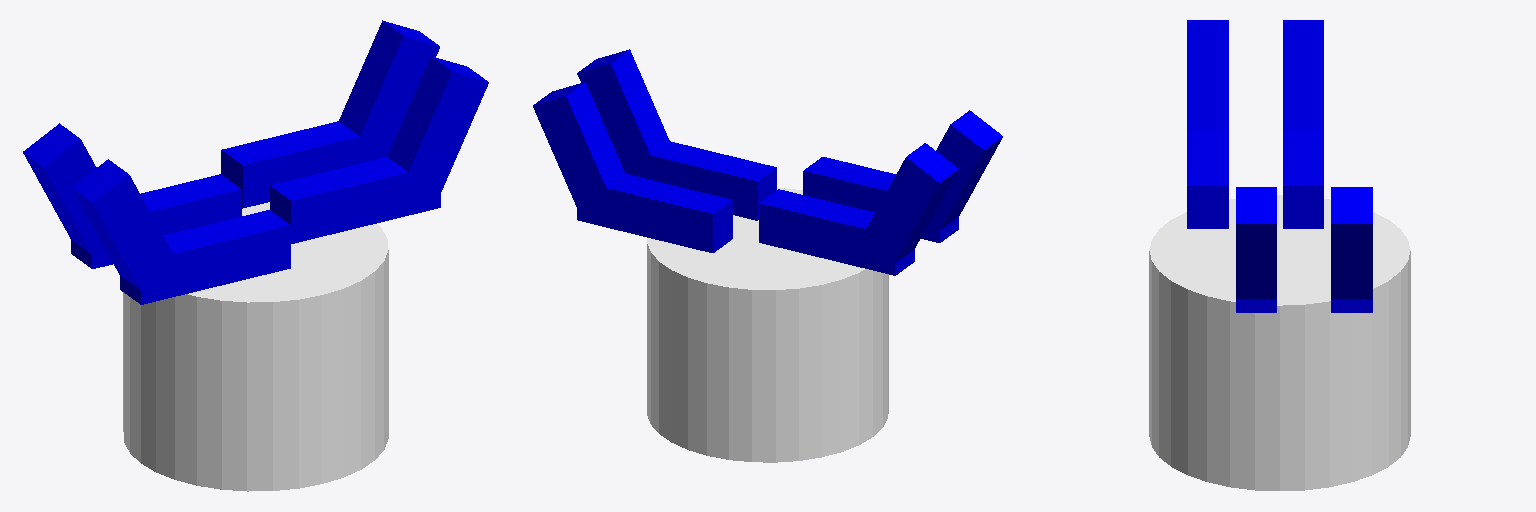
robot.urdf — modelt:
<?xml version="1.0"?>
<robot name="modelt">
  <link name="base_link">
    <visual>
      <geometry>
        <cylinder length="0.0785" radius="0.05"/>
      </geometry>
      <material name="white">
        <color rgba="1 1 1 0.8"/>
      </material>
    </visual>
  </link>

  <link name="finger1_prox">
    <visual>
      <geometry>
        <box size="0.065 0.016 0.018"/>
      </geometry>
      <material name="blue">
        <color rgba="0 0 1 0.8"/>
      </material>
      <origin rpy="0 0 0" xyz="0.0235 0 0"/>
    </visual>
  </link>

  <joint name="base_to_finger1" type="revolute">
    <axis xyz="0 -1 0"/>
    <limit effort="1000.0" lower="0.0" upper="2.35619" velocity="0.5"/>
    <origin rpy="0 0 0" xyz="0.01453 -0.00902 0.05475"/>
    <parent link ="base_link"/>
    <child link="finger1_prox"/>
  </joint>

  <link name="finger1_dist">
    <visual>
      <geometry>
        <box size="0.0475 0.016 0.018"/>
      </geometry>
      <material name="blue">
        <color rgba="0 0 1 0.8"/>
      </material>
      <origin rpy="0 0 0" xyz="0.023715 0 0"/>
    </visual>
  </link>

  <joint name="prox_to_dist1" type="revolute">
    <axis xyz="0 -1 0"/>
    <limit effort="1000.0" lower="0.314159" upper="1.885" velocity="0.5"/>
    <origin rpy="0 0 0" xyz="0.0475 0 0"/>
    <parent link ="finger1_prox"/>
    <child link="finger1_dist"/>
  </joint>

  <link name="finger2_prox">
    <visual>
      <geometry>
        <box size="0.065 0.016 0.018"/>
      </geometry>
      <material name="blue"/>
      <origin rpy="0 0 0" xyz="0.0235 0 0"/>
    </visual>
  </link>

  <joint name="base_to_finger2" type="revolute">
    <axis xyz="0 -1 0"/>
    <limit effort="1000.0" lower="0.0" upper="2.35619" velocity="0.5"/>
    <origin rpy="0 0 0" xyz="0.01453 0.02765 0.05475"/>
    <parent link ="base_link"/>
    <child link="finger2_prox"/>
  </joint>

  <link name="finger2_dist">
    <visual>
      <geometry>
        <box size="0.0475 0.016 0.018"/>
      </geometry>
      <material name="blue">
        <color rgba="0 0 1 0.8"/>
      </material>
      <origin rpy="0 0 0" xyz="0.023715 0 0"/>
    </visual>
  </link>

  <joint name="prox_to_dist2" type="revolute">
    <axis xyz="0 -1 0"/>
    <limit effort="1000.0" lower="0.314159" upper="1.885" velocity="0.5"/>
    <origin rpy="0 0 0" xyz="0.0475 0 0"/>
    <parent link ="finger2_prox"/>
    <child link="finger2_dist"/>
  </joint>

  <link name="finger3_prox">
    <visual>
      <geometry>
        <box size="0.065 0.016 0.018"/>
      </geometry>
      <material name="blue"/>
      <origin rpy="0 0 0" xyz="0.0235 0 0"/>
    </visual>
  </link>

  <joint name="base_to_finger3" type="revolute">
    <axis xyz="0 -1 0"/>
    <limit effort="1000.0" lower="0.0" upper="2.35619" velocity="0.5"/>
    <origin rpy="0 0 3.14159" xyz="-0.01453 0.00902 0.05475"/>
    <parent link ="base_link"/>
    <child link="finger3_prox"/>
  </joint>

  <link name="finger3_dist">
    <visual>
      <geometry>
        <box size="0.0475 0.016 0.018"/>
      </geometry>
      <material name="blue">
        <color rgba="0 0 1 0.8"/>
      </material>
      <origin rpy="0 0 0" xyz="0.023715 0 0"/>
    </visual>
  </link>

  <joint name="prox_to_dist3" type="revolute">
    <axis xyz="0 -1 0"/>
    <limit effort="1000.0" lower="0.314159" upper="1.885" velocity="0.5"/>
    <origin rpy="0 0 0" xyz="0.0475 0 0"/>
    <parent link ="finger3_prox"/>
    <child link="finger3_dist"/>
  </joint>

  <link name="finger4_prox">
    <visual>
      <geometry>
        <box size="0.065 0.016 0.018"/>
      </geometry>
      <material name="blue"/>
      <origin rpy="0 0 0" xyz="0.0235 0 0"/>
    </visual>
  </link>

  <joint name="base_to_finger4" type="revolute">
    <axis xyz="0 -1 0"/>
    <limit effort="1000.0" lower="0.0" upper="2.35619" velocity="0.5"/>
    <origin rpy="0 0 3.14159" xyz="-0.01453 -0.02765 0.05475"/>
    <parent link ="base_link"/>
    <child link="finger4_prox"/>
  </joint>

  <link name="finger4_dist">
    <visual>
      <geometry>
        <box size="0.0475 0.016 0.018"/>
      </geometry>
      <material name="blue">
        <color rgba="0 0 1 0.8"/>
      </material>
      <origin rpy="0 0 0" xyz="0.023715 0 0"/>
    </visual>
  </link>

  <joint name="prox_to_dist4" type="revolute">
    <axis xyz="0 -1 0"/>
    <limit effort="1000.0" lower="0.314159" upper="1.885" velocity="0.5"/>
    <origin rpy="0 0 0" xyz="0.0475 0 0"/>
    <parent link ="finger4_prox"/>
    <child link="finger4_dist"/>
  </joint>
</robot>

--- Facts derived from the render (not from the file) ---
The picture shows the robot from 3 angles, left to right: view 1: azimuth 30°, elevation 25°; view 2: azimuth 150°, elevation 25°; view 3: azimuth 270°, elevation 25°; orthographic projection.
Model modelt with 9 links and 8 joints (8 revolute), rooted at base_link, posed joints at zero except 4 at the middle of their limits (prox_to_dist1 = 1.1, prox_to_dist2 = 1.1, prox_to_dist3 = 1.1, prox_to_dist4 = 1.1).
Visible links, largest first — view 1: base_link, finger4_prox, finger1_prox, finger1_dist, finger2_prox, finger4_dist, finger2_dist, finger3_prox, finger3_dist; view 2: base_link, finger2_prox, finger3_prox, finger2_dist, finger1_prox, finger3_dist, finger1_dist, finger4_prox, finger4_dist; view 3: base_link, finger2_dist, finger4_dist, finger1_dist, finger3_dist, finger4_prox, finger3_prox, finger2_prox, finger1_prox.
Link boxes in pixels (x1,y1,x2,y2): base_link: (123,202,388,491); finger4_prox: (120,210,290,304); finger1_prox: (270,157,440,243); finger1_dist: (387,56,488,195); finger2_prox: (221,121,391,208); finger4_dist: (72,159,178,292); finger2_dist: (339,20,439,152); finger3_prox: (71,174,241,268); finger3_dist: (23,123,99,254); base_link: (647,188,888,462); finger2_prox: (577,174,732,252); finger3_prox: (759,189,914,275); finger2_dist: (533,82,624,209); finger1_prox: (621,141,776,220); finger3_dist: (861,143,958,264); finger1_dist: (577,49,669,174); finger4_prox: (803,157,958,242); finger4_dist: (929,110,1002,230); base_link: (1149,195,1410,490); finger2_dist: (1331,187,1372,298); finger4_dist: (1187,20,1228,129); finger1_dist: (1236,187,1276,298); finger3_dist: (1283,20,1323,129); finger4_prox: (1187,130,1228,228); finger3_prox: (1283,130,1323,228); finger2_prox: (1331,299,1372,312); finger1_prox: (1236,299,1276,312).
Bounding box of the posed robot: 0.1832 × 0.1 × 0.1404 m (x, y, z).
Geometry: primitives only (box / cylinder / sphere), no mesh files.